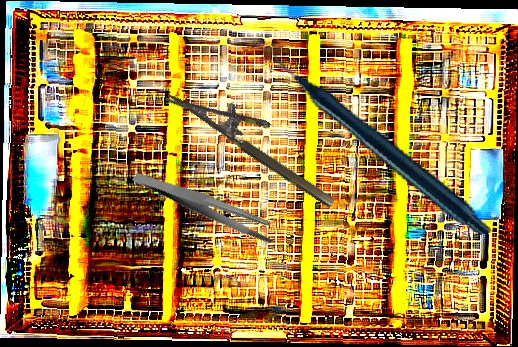Dressing Forceps: (131, 139, 281, 272)
Handpiece: (269, 2, 493, 274)
Needle Holder: (164, 67, 351, 210)
